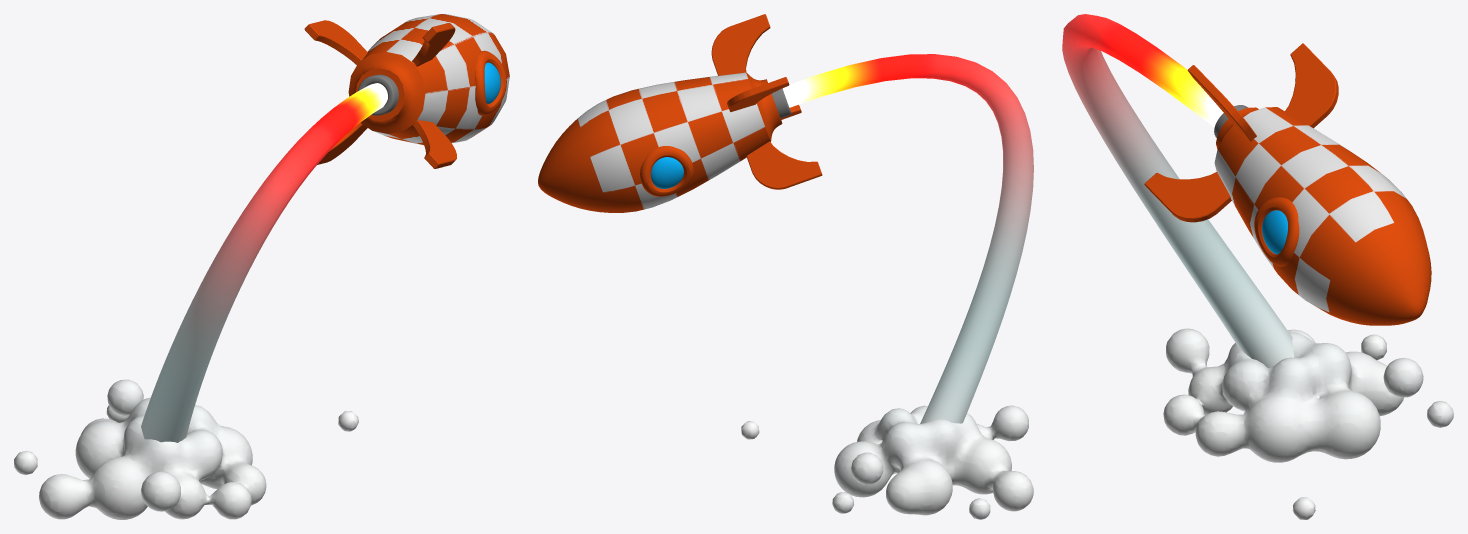
The model's file is rocket.glb.
3 renders of one model, left to right at view 1: azimuth 30°, elevation 25°; view 2: azimuth 150°, elevation 25°; view 3: azimuth 270°, elevation 25°, orthographic. The views are drawn at different scales.
Size of the model in its own units: 9.97 by 8.49 by 6.19.
2 materials, 2 textured.
